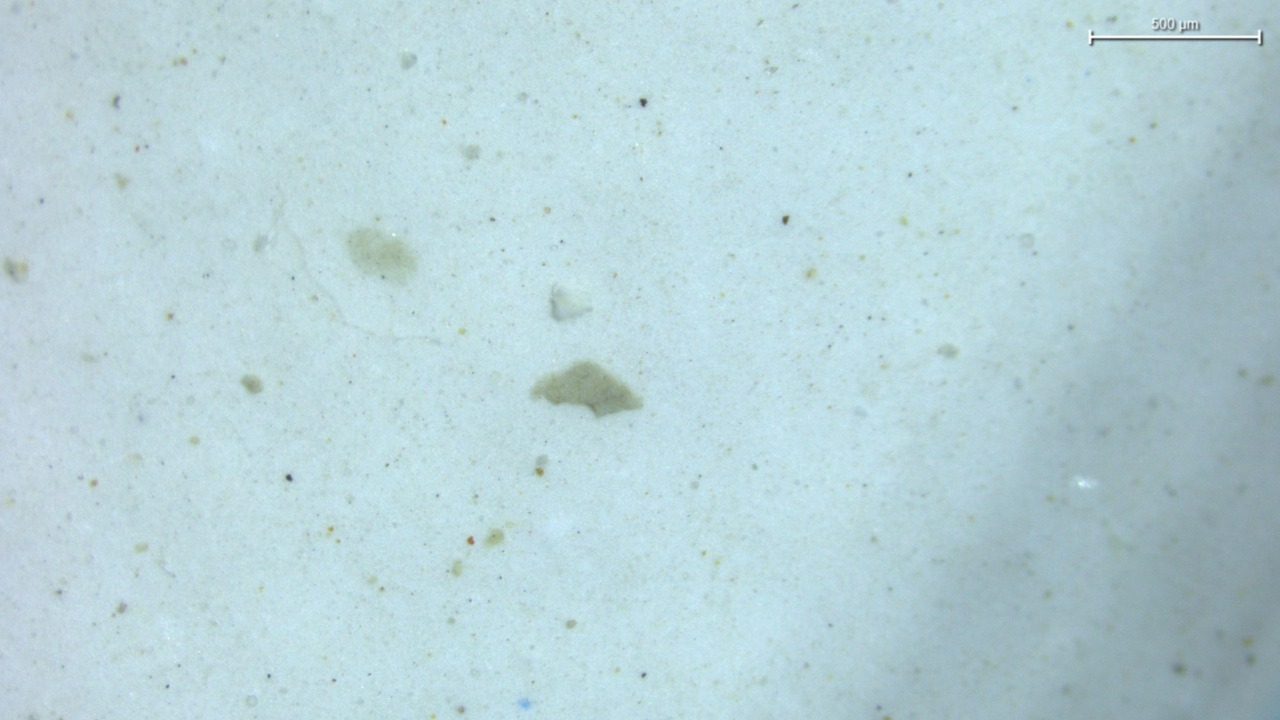microplastic_fragment: (532, 360, 642, 417)
